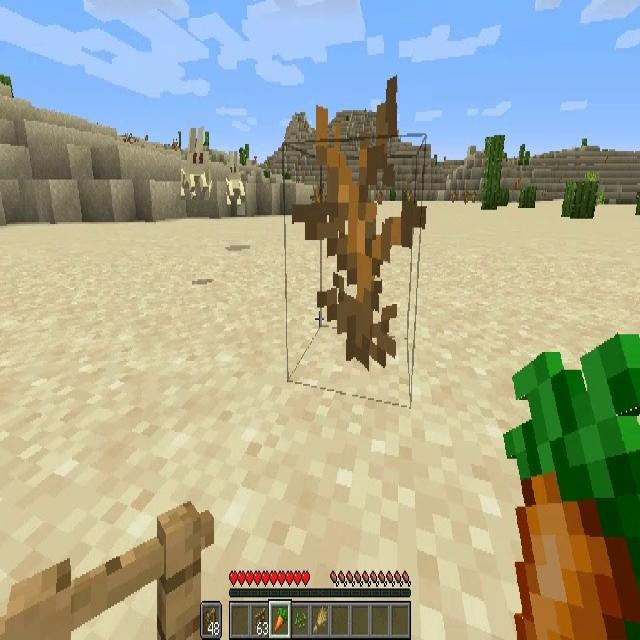rabbit: (181, 126, 209, 200), (226, 151, 245, 205)
